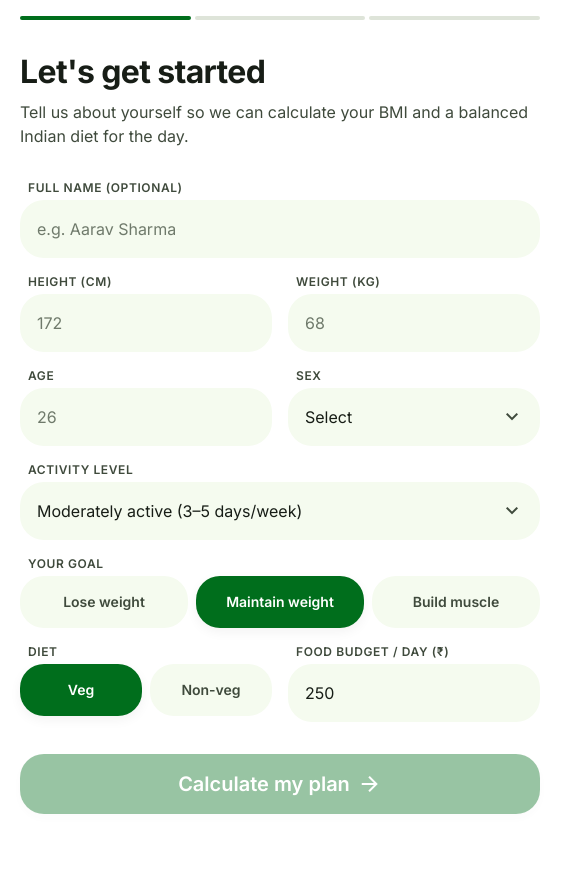
Test: Onboarding › shows an alert and does not submit when required fields are missing
Step 1. Click the button "Calculate my plan" → point(280, 784), box [20,754,540,814]
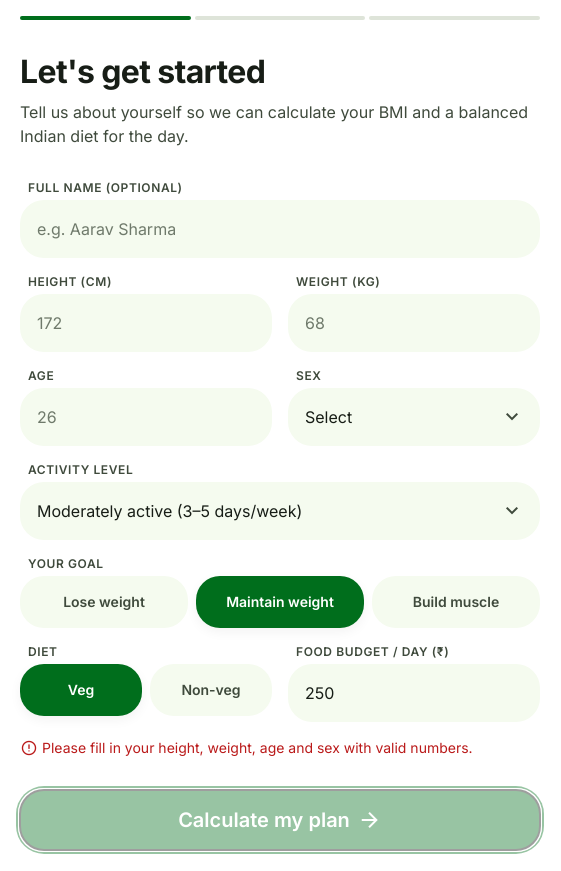
Now the message shows "height, weight, age and sex", box [42,739,473,756]
